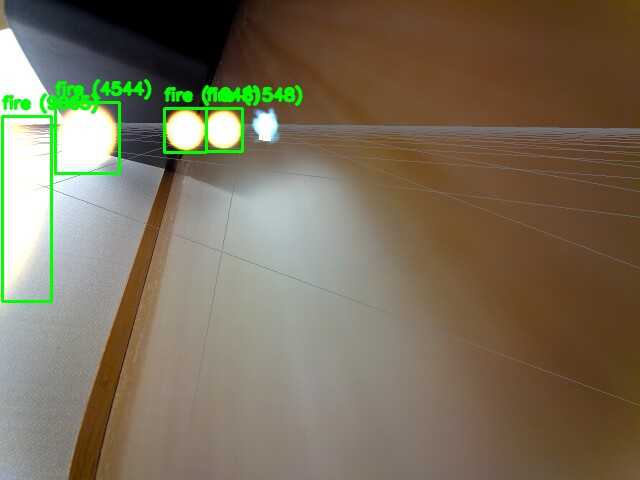fire: (2, 116, 51, 301), (55, 102, 119, 173), (164, 108, 206, 152), (206, 108, 242, 151)
